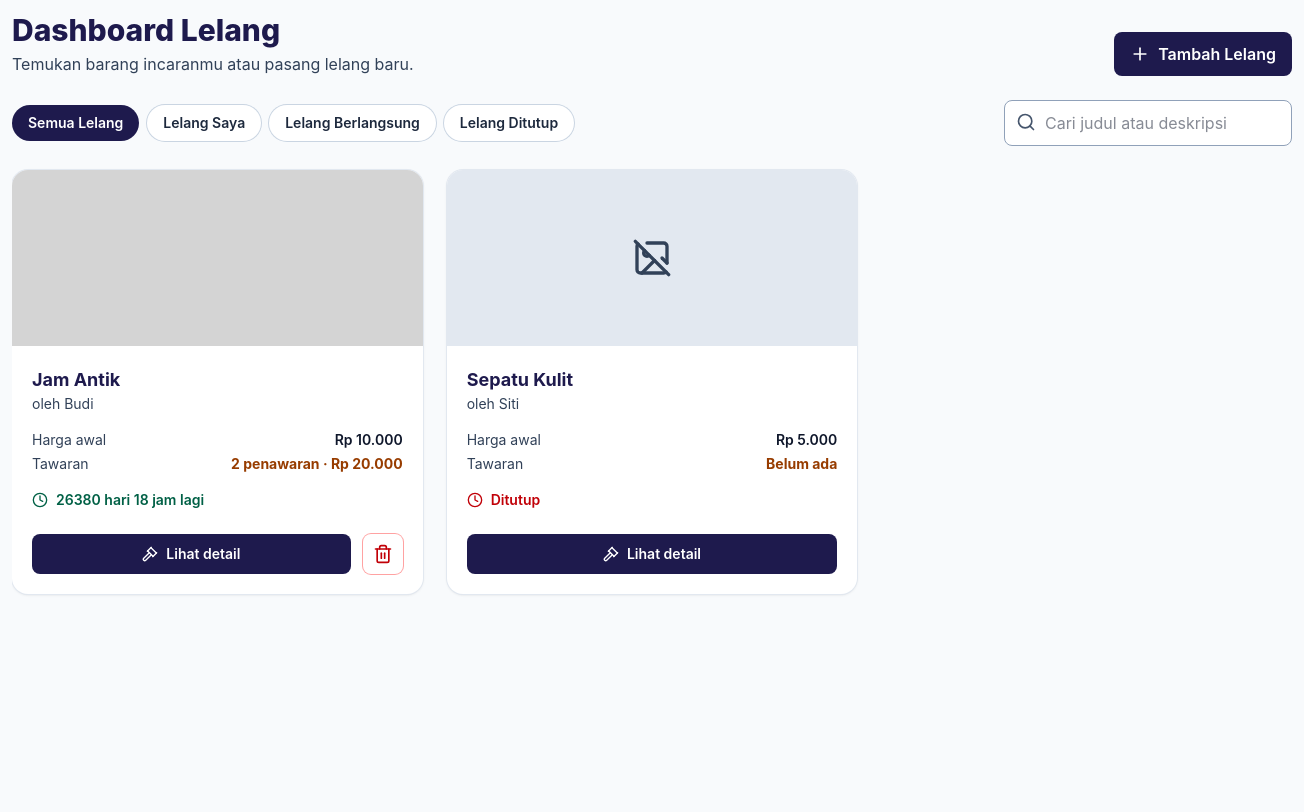
HomePage › pencarian langsung berdasarkan judul atau deskripsi
Step 1. Type "kulit" into the search field with id "search-input" → point(1148, 123), box x1=1004 y1=100 x2=1292 y2=146
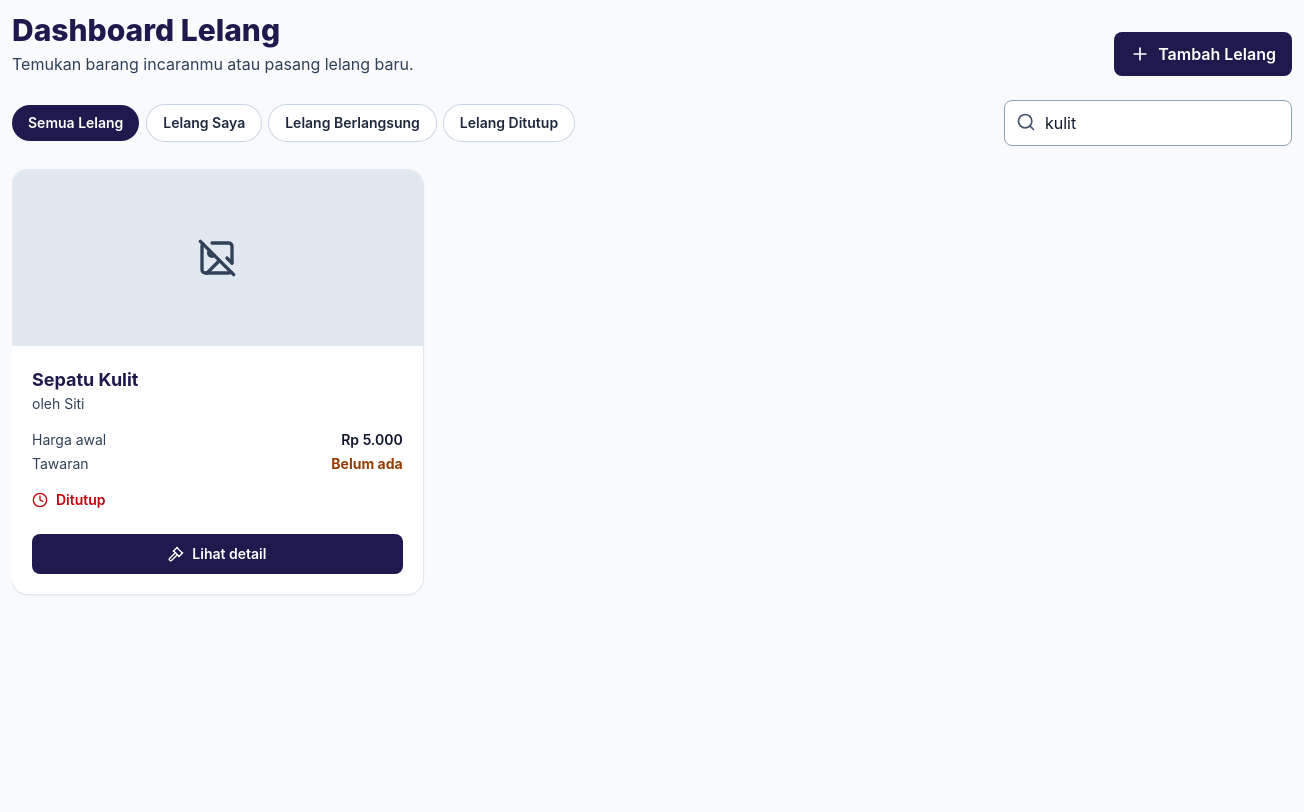
Step 2. Replace the text in the search field with id "search-input" with "tidak ada" → point(1148, 123), box x1=1004 y1=100 x2=1292 y2=146
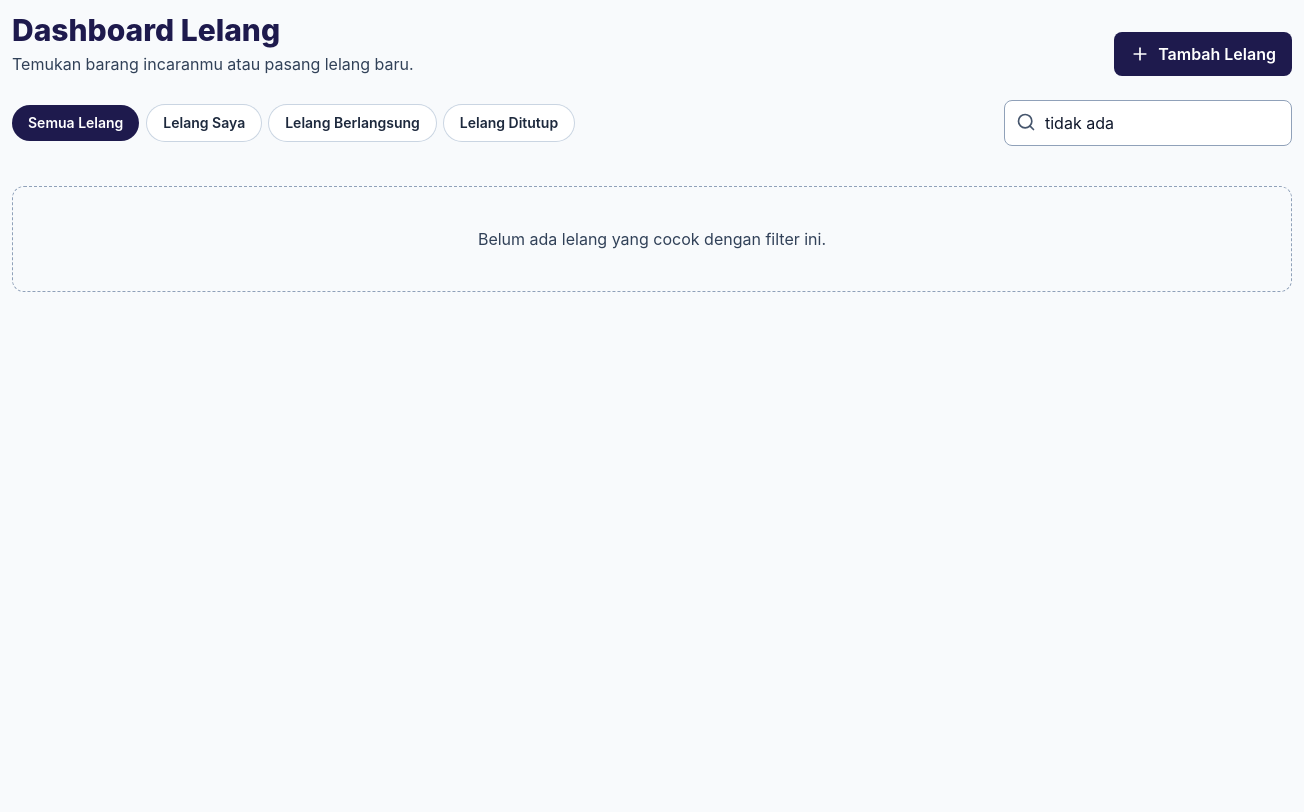
expect the text "Belum ada lelang yang cocok" is shown: met, box x1=478 y1=229 x2=826 y2=249
